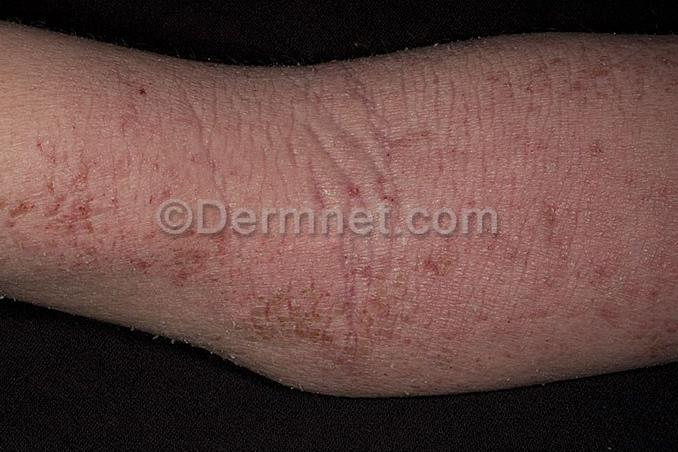Eritema 2: (0, 130, 512, 335), (537, 29, 673, 365)
excoriacion 1: (498, 43, 678, 118)
excoriacion 2: (483, 181, 678, 376), (0, 152, 233, 291), (249, 215, 407, 380)
exudacion 1: (0, 147, 431, 350)
liquenificacion 2: (125, 27, 676, 354)
